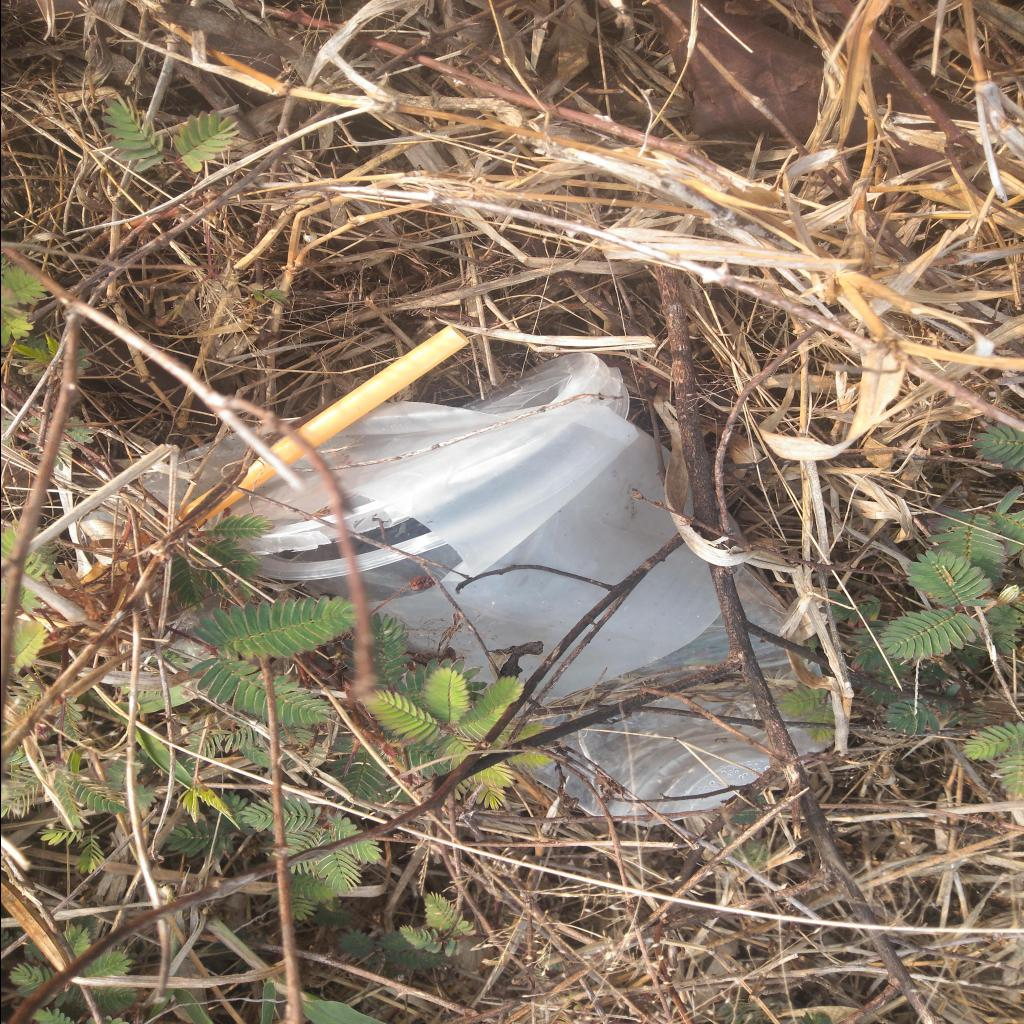Disposable plastic cup: (209, 353, 835, 827)
Plastic film: (141, 400, 745, 706)
Plastic lid: (213, 352, 611, 552)
Plastic straw: (174, 324, 468, 530)
